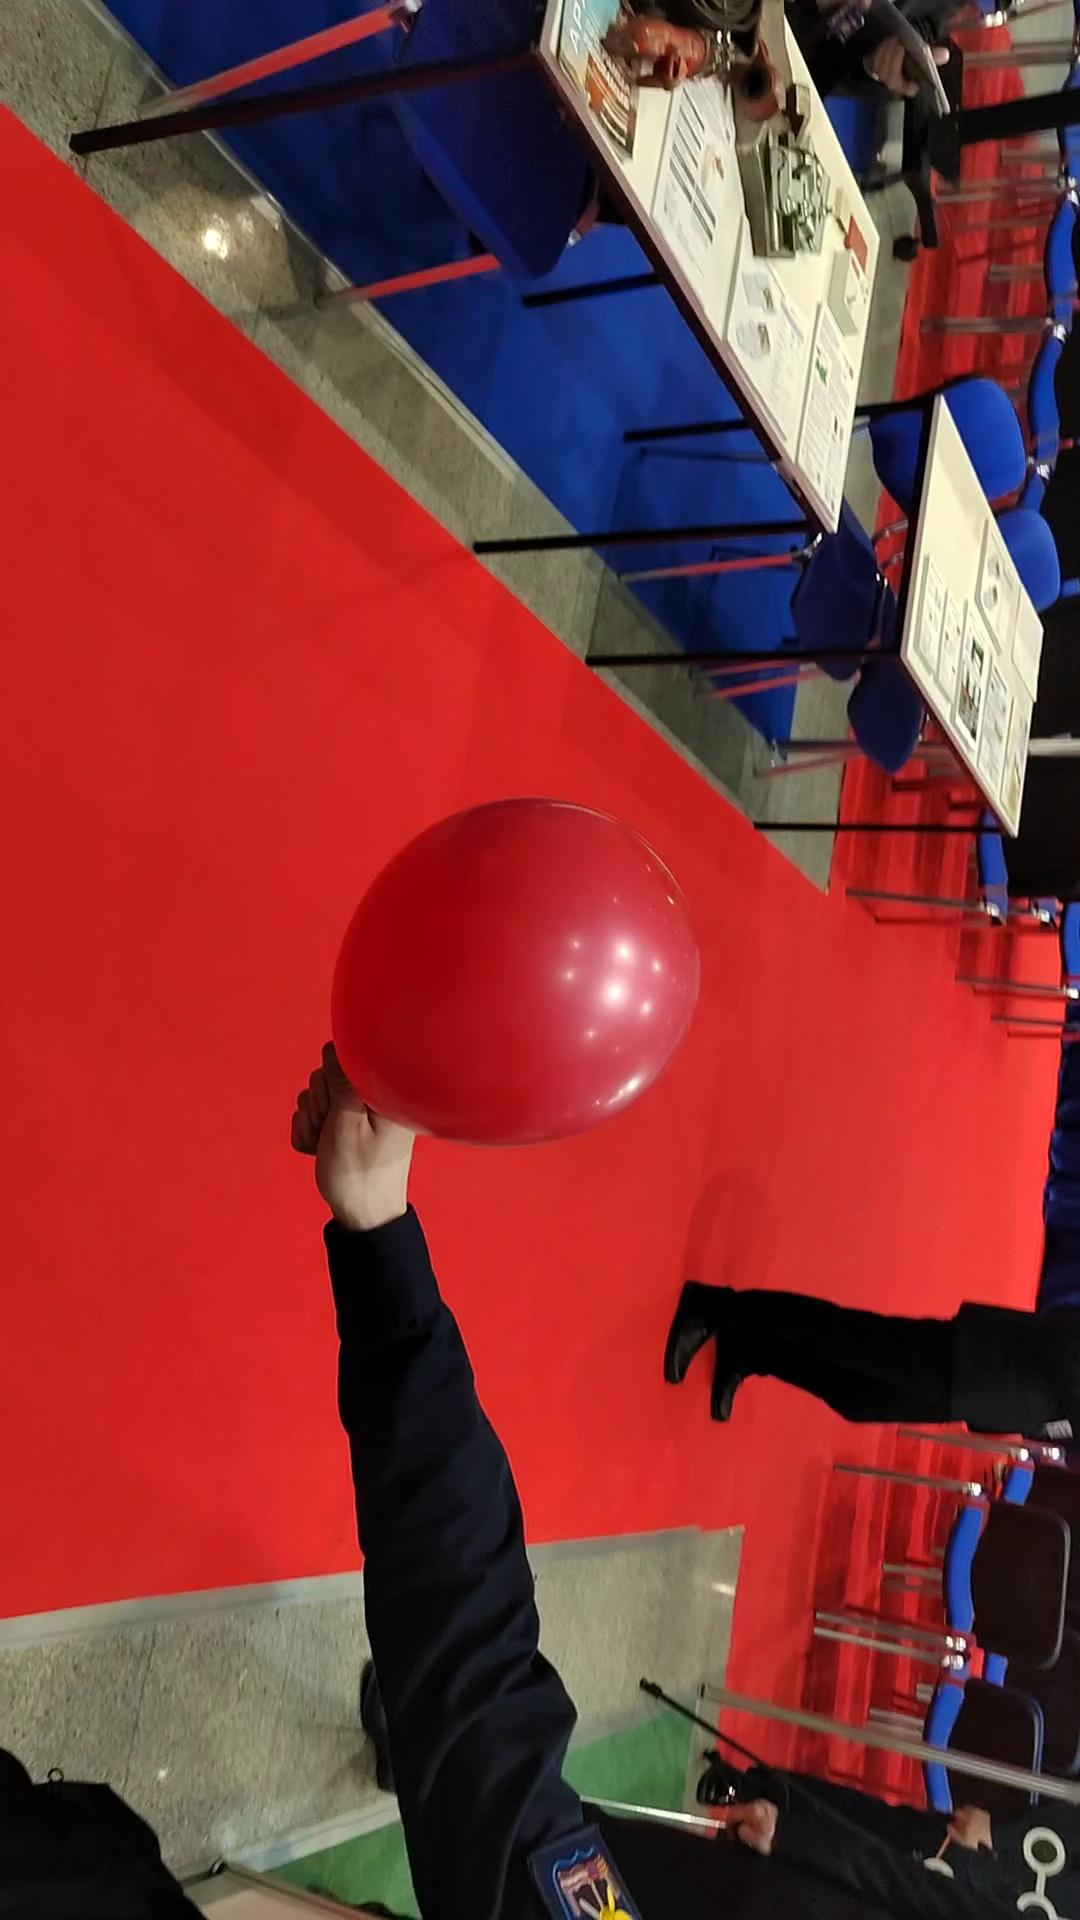red: (320, 791, 715, 1145)
